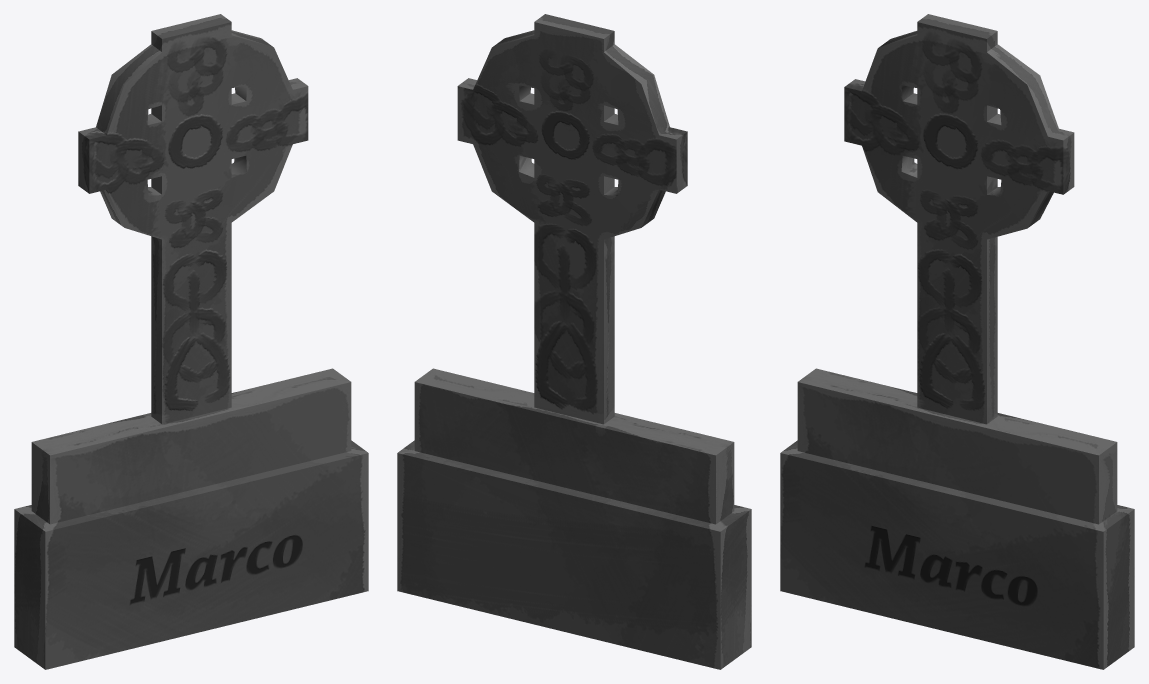
Rendered from MarcoGrave_Geo.fbx.
3 renders of one model, left to right at view 1: azimuth 30°, elevation 25°; view 2: azimuth 150°, elevation 25°; view 3: azimuth 330°, elevation 25°, orthographic.
Parts seen in each view (by area): view 1: MarcoGrave_Geo; view 2: MarcoGrave_Geo; view 3: MarcoGrave_Geo.
Part boxes in pixels (x1,y1,x2,y2): MarcoGrave_Geo: (14, 14, 368, 669); MarcoGrave_Geo: (397, 14, 751, 669); MarcoGrave_Geo: (780, 14, 1134, 669).
Size of the model in its own units: 79.57 by 139 by 13.27.
